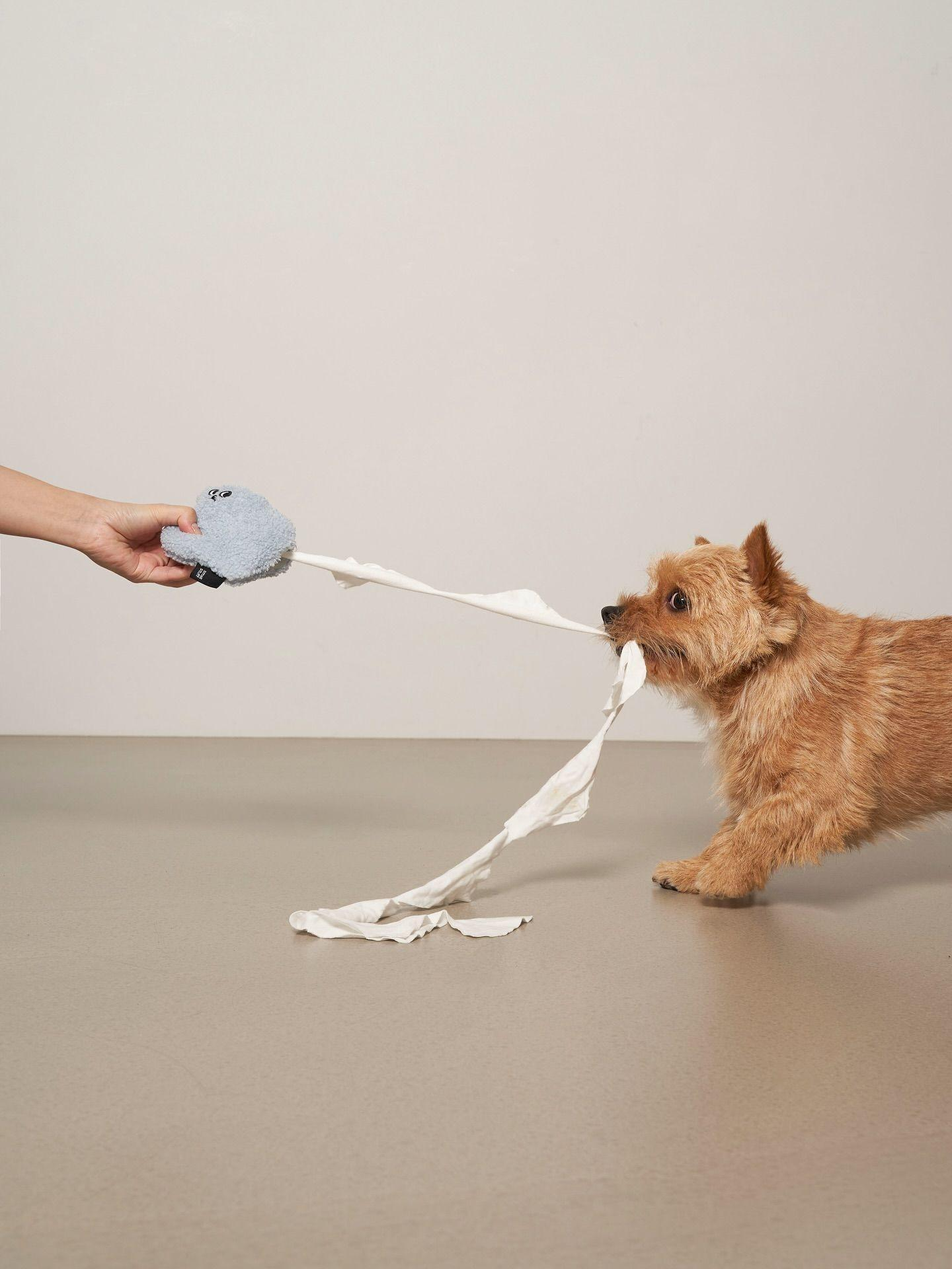adult_dog: (600, 518, 952, 904)
non-dog: (0, 464, 201, 589)
